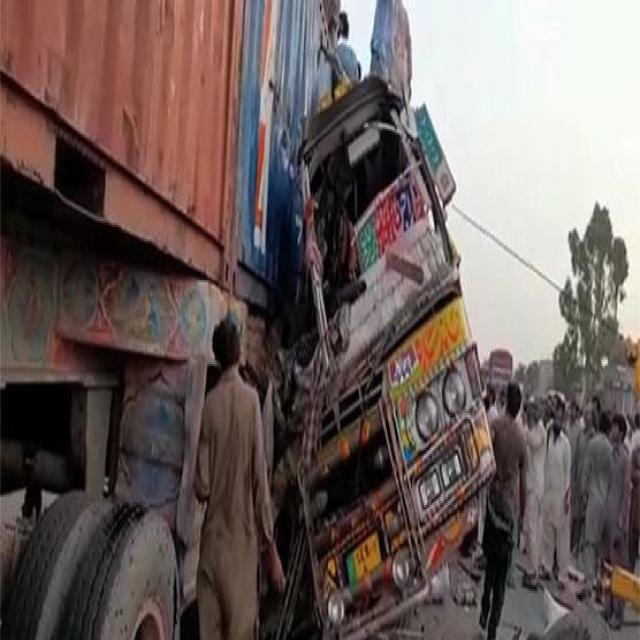accident: (299, 75, 494, 636)
